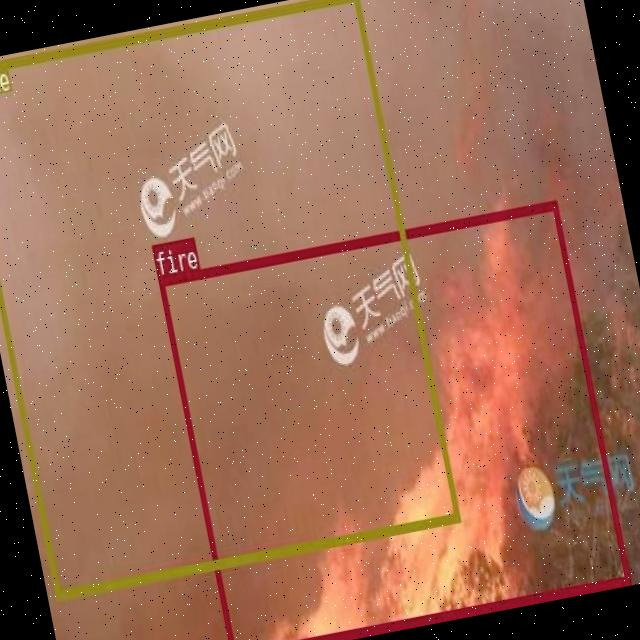fire: (157, 199, 629, 640)
smoke: (0, 0, 460, 597)
